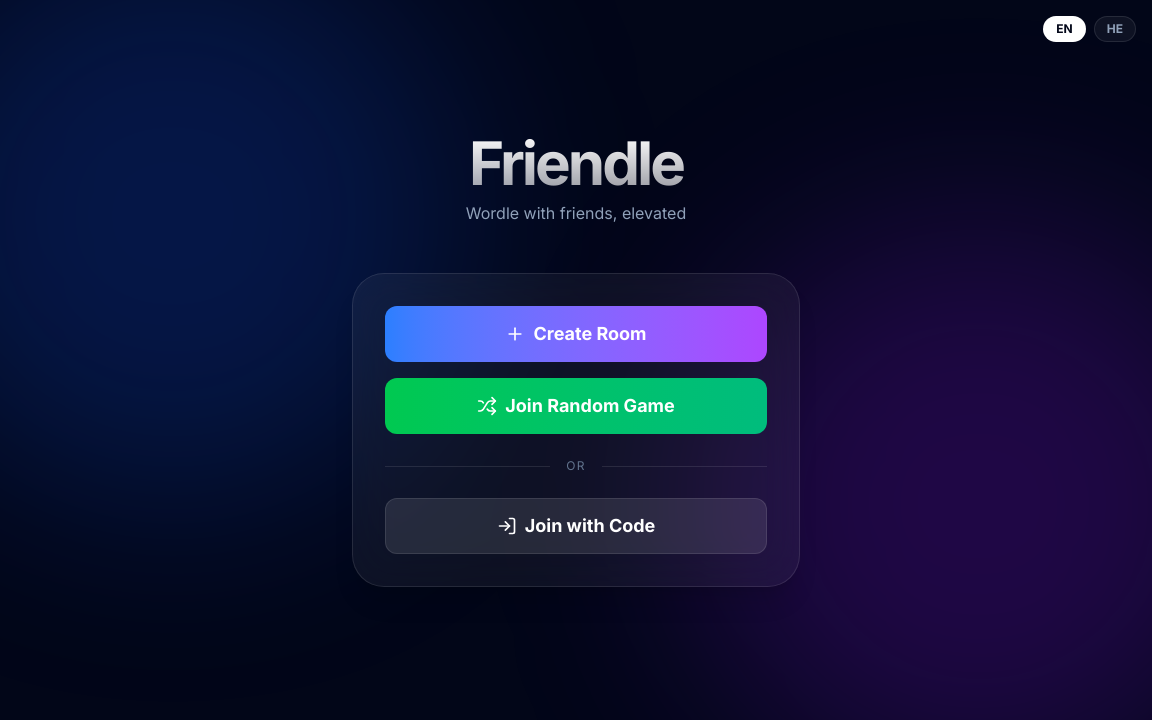
Scenario: Home Page - New Flow › navigates to create room flow (step 1)
Click the button "Create Room" at (576, 334), box 385,306 -> 767,362
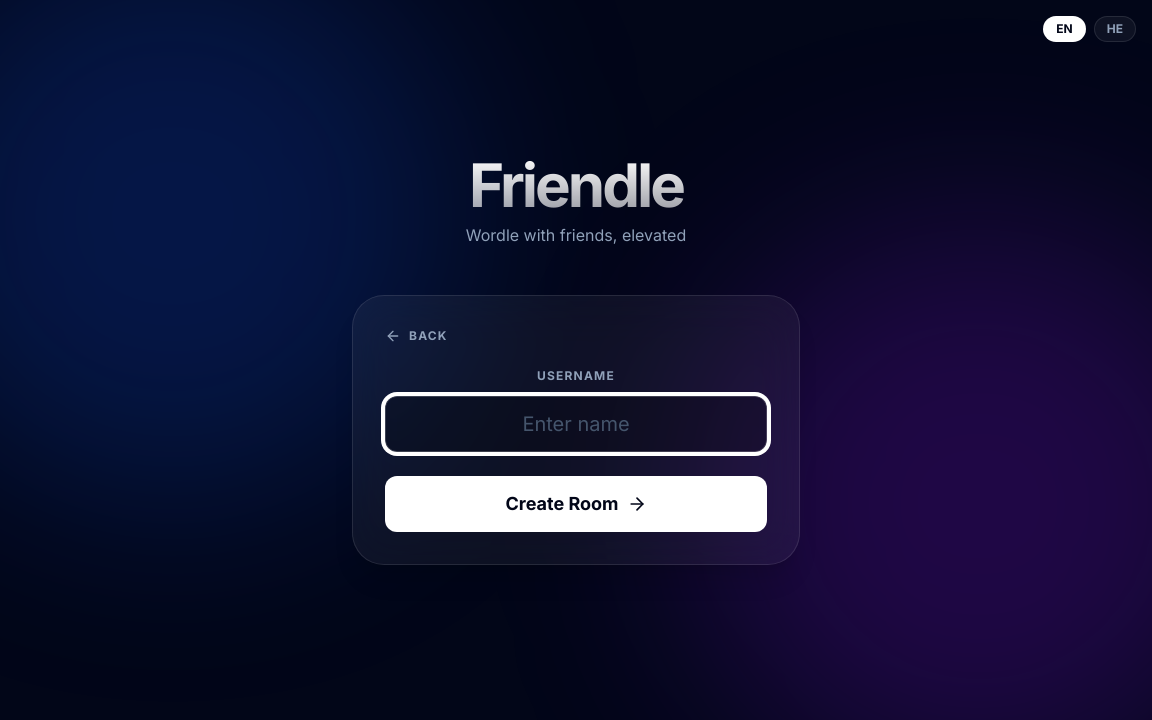
Expected: the button "Create Room" is shown, 385,476 -> 767,532
Expected: the field labelled "Username" is shown, 385,396 -> 767,452
